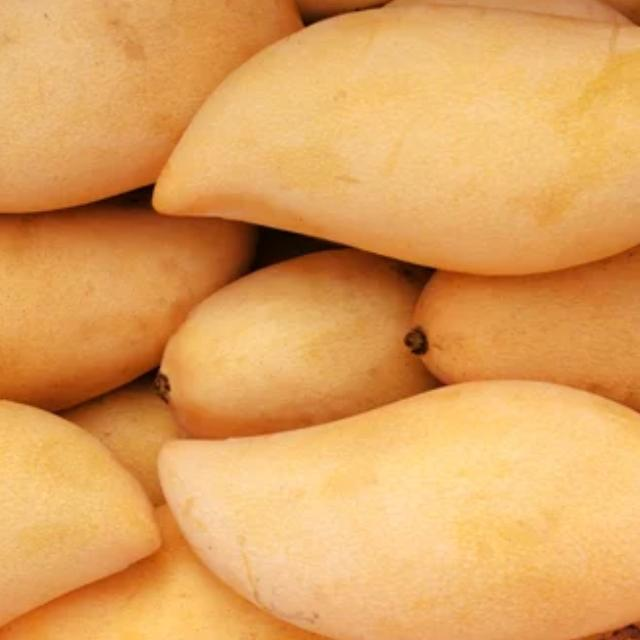mango: (153, 2, 640, 279), (156, 374, 640, 640)
